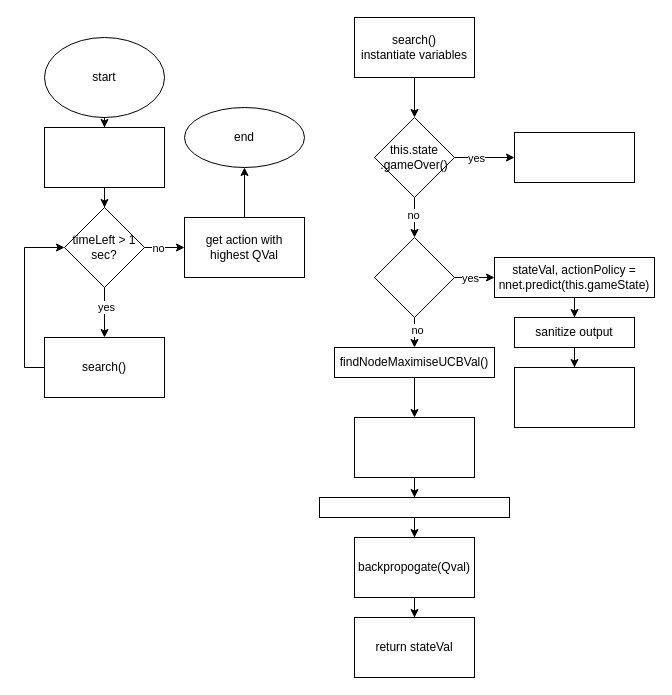
This 672x695 diagram has some shape labels left out. The shapes that lost their labels are listed below. From the top down, each one's centre as x and y in pixels, then its label:
At point 104,157: "call getActionProb()".
At point 574,157: "return gameOutcome".
At point 414,277: "isLeafNode()".
At point 574,397: "map.add(policy values) return gameVal".
At point 414,447: "this.state = bestNode search()".
At point 414,507: "calculateQvalFromPolicyValues()".
